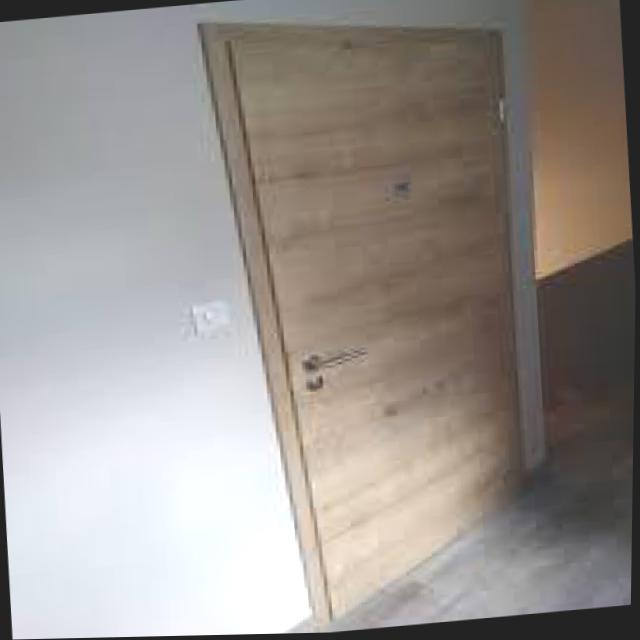close: (169, 0, 606, 636)
